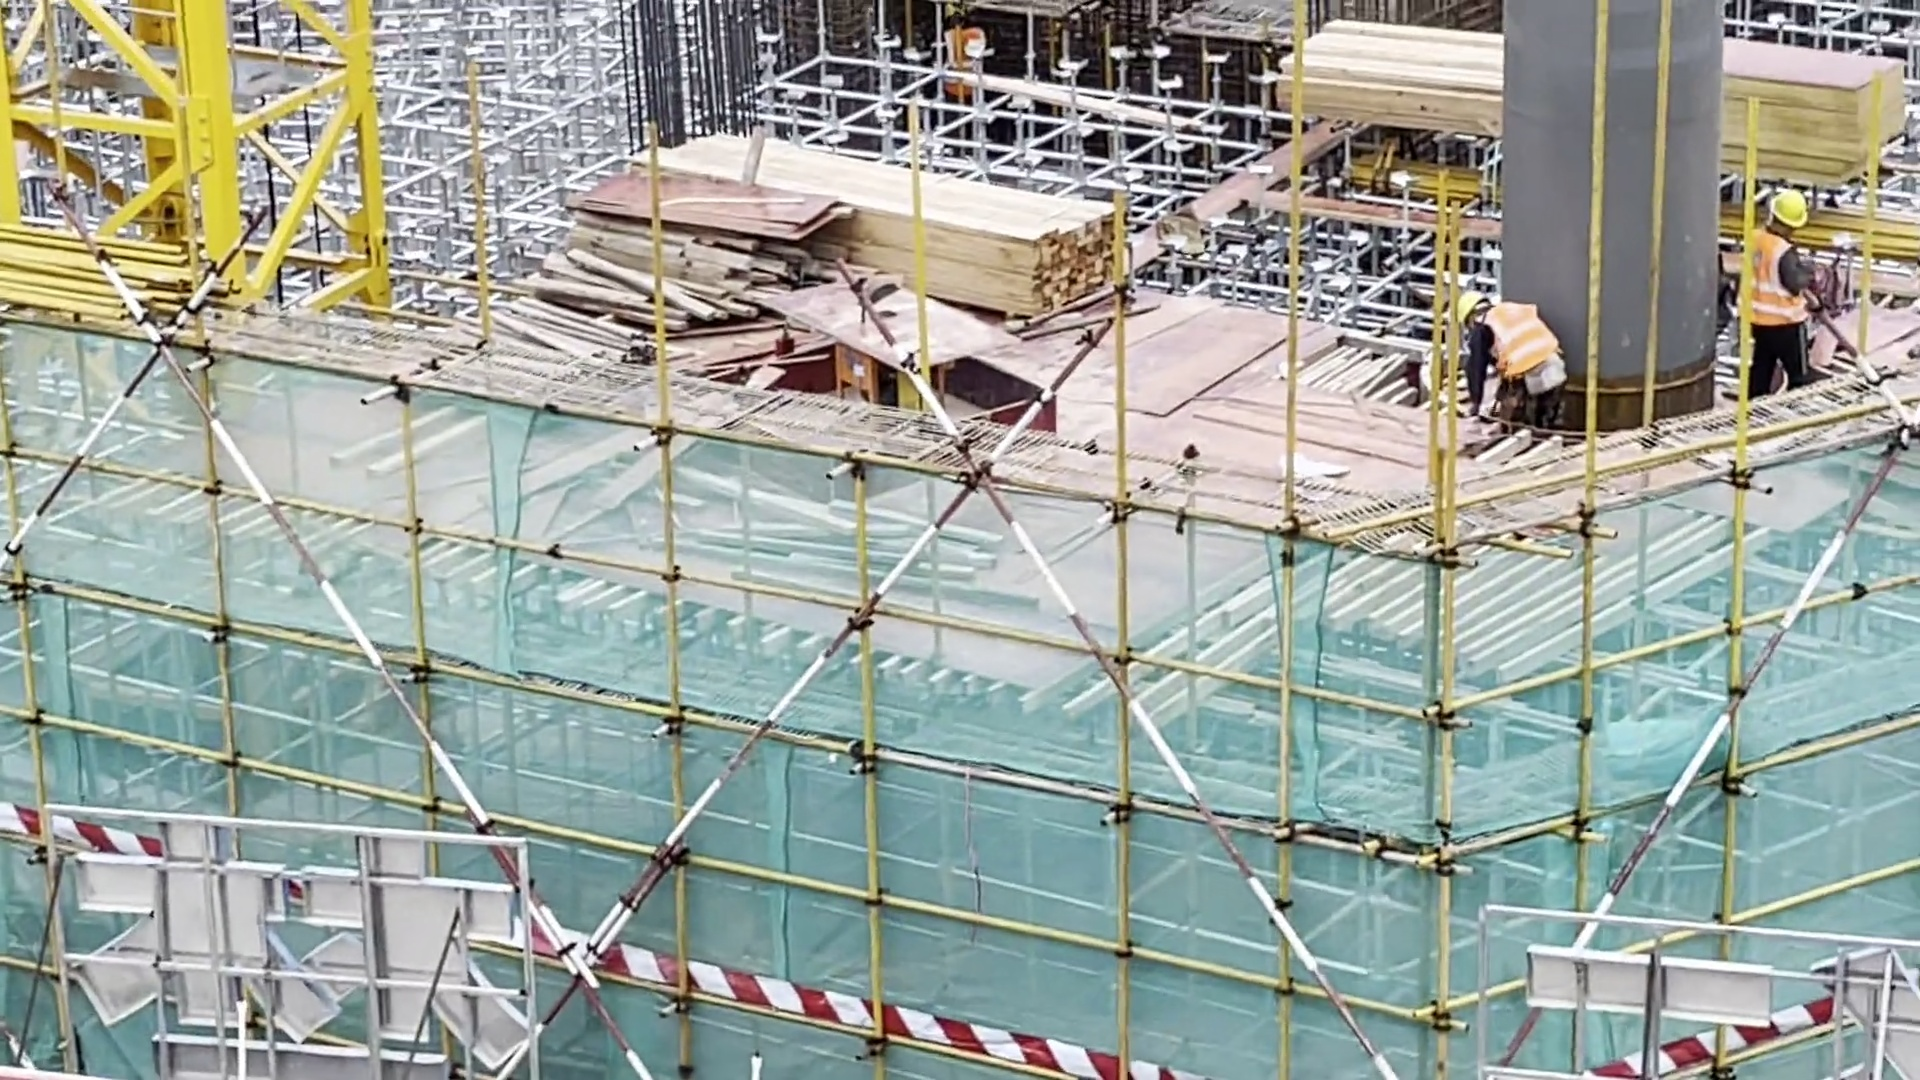cutter: (761, 282, 1012, 411)
helmet: (1752, 172, 1808, 231), (1444, 282, 1503, 322)
person: (1724, 169, 1833, 386), (1448, 291, 1578, 429)
vest: (1741, 229, 1823, 327), (1474, 308, 1565, 367)
wood: (653, 133, 1119, 301), (504, 187, 849, 349)
